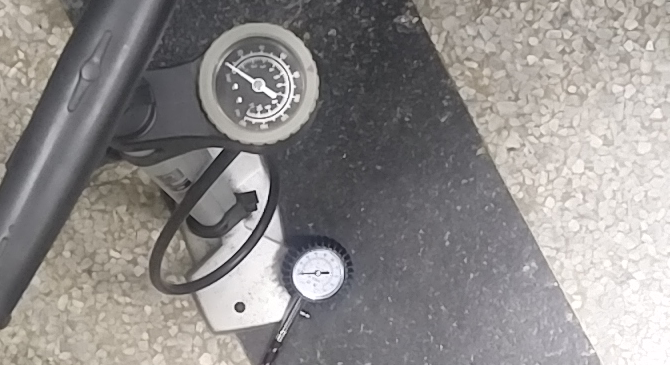Round_Meter: (211, 32, 309, 136), (292, 247, 347, 305)
